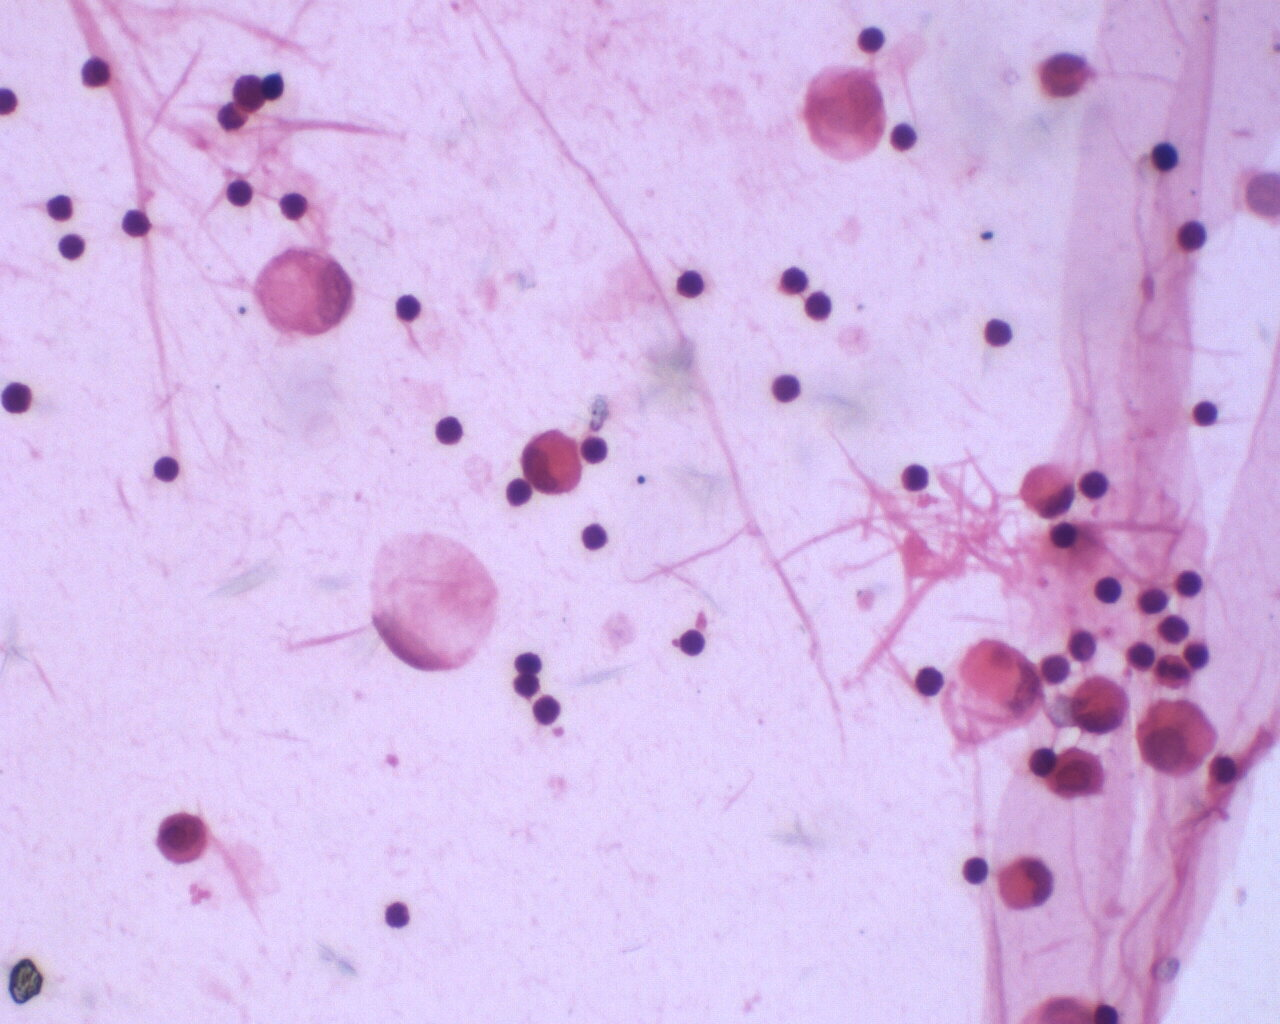ab: (152, 810, 213, 870), (1048, 742, 1106, 804)
histo: (360, 523, 506, 676), (249, 241, 360, 343), (1016, 456, 1078, 523), (997, 855, 1058, 913)
lymph: (430, 411, 474, 451), (910, 659, 953, 699), (768, 368, 806, 410), (897, 458, 938, 495), (981, 315, 1022, 352), (120, 202, 157, 241), (1147, 137, 1184, 176), (530, 693, 566, 730), (148, 449, 187, 485), (55, 228, 90, 267), (885, 120, 925, 155), (77, 51, 111, 92), (670, 266, 706, 303), (394, 288, 428, 325), (958, 854, 992, 890), (1189, 396, 1224, 430), (1096, 571, 1128, 607), (1076, 467, 1111, 501), (581, 518, 613, 552), (678, 625, 707, 656)
meso: (1132, 697, 1221, 778), (519, 422, 587, 497)
